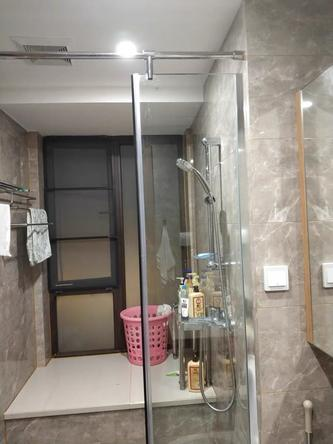switch: (260, 267, 292, 289)
